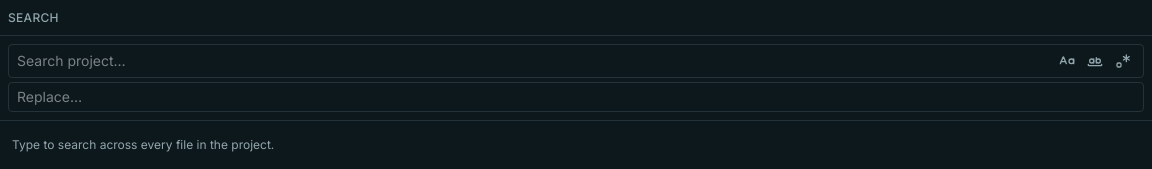
SearchView › explicit no-results state
The width and height of the screenshot is (1152, 169).
Type "zzz" into the field named "Search query" at (534, 61), box [17,51,1051,71]
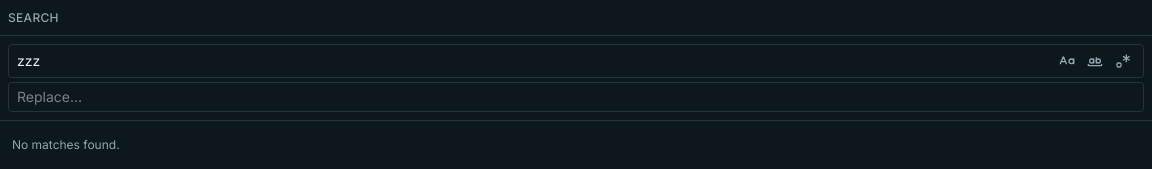
Expected: the text "No matches found." is shown, [12,137,120,152]
